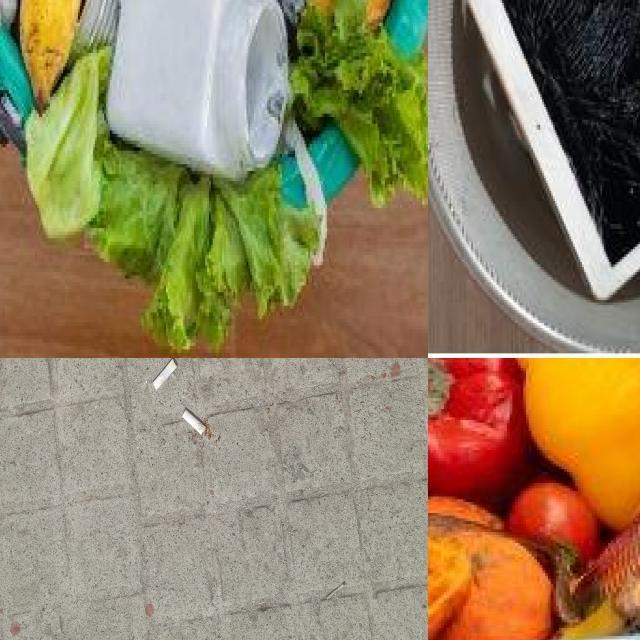Background: (0, 358, 428, 640)
Cig_bud: (152, 358, 177, 391), (182, 409, 207, 435)
E-Waste: (466, 0, 640, 299)
Garbage: (428, 358, 640, 640)
Metal: (71, 0, 120, 56)
Plastic_bottle: (107, 0, 289, 180)
contaminated_waste: (107, 0, 289, 180), (71, 0, 120, 55)
top_view_waste: (428, 0, 640, 350), (466, 0, 640, 299)
